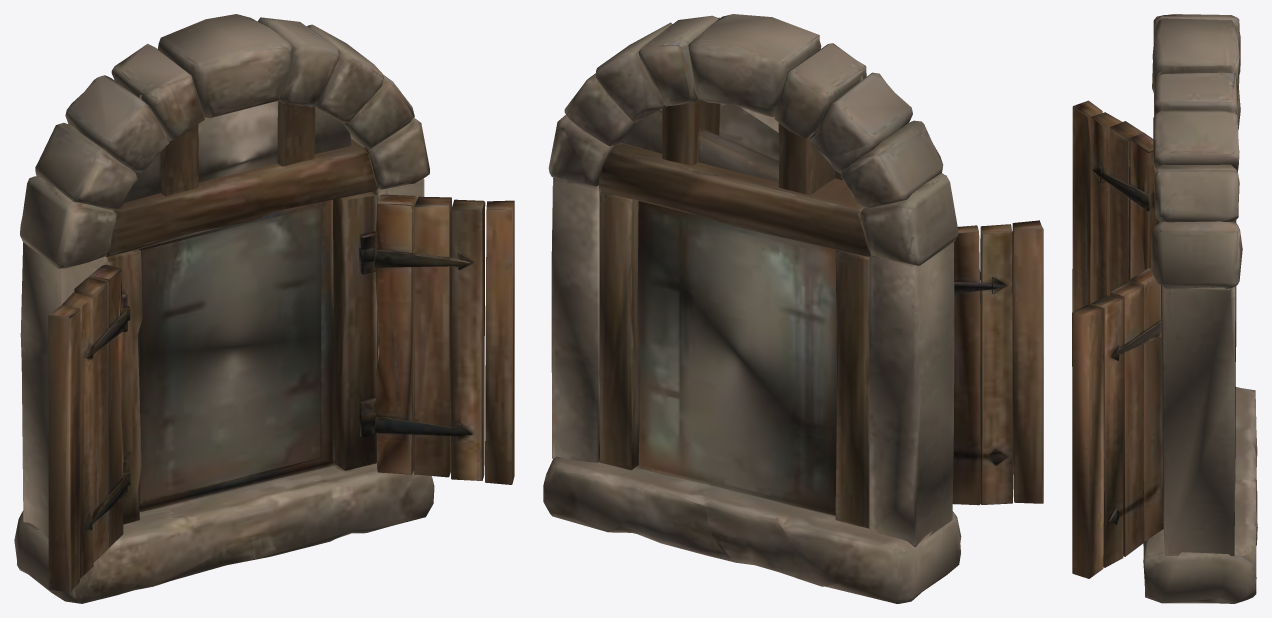
The model's file is k-win-open.glb.
The picture shows the model from 3 angles, left to right: view 1: azimuth 30°, elevation 25°; view 2: azimuth 150°, elevation 25°; view 3: azimuth 270°, elevation 25°; orthographic projection. The views are drawn at different scales.
Size of the model in its own units: 0.9053 by 0.9487 by 0.3281.
1 material, 1 textured.
